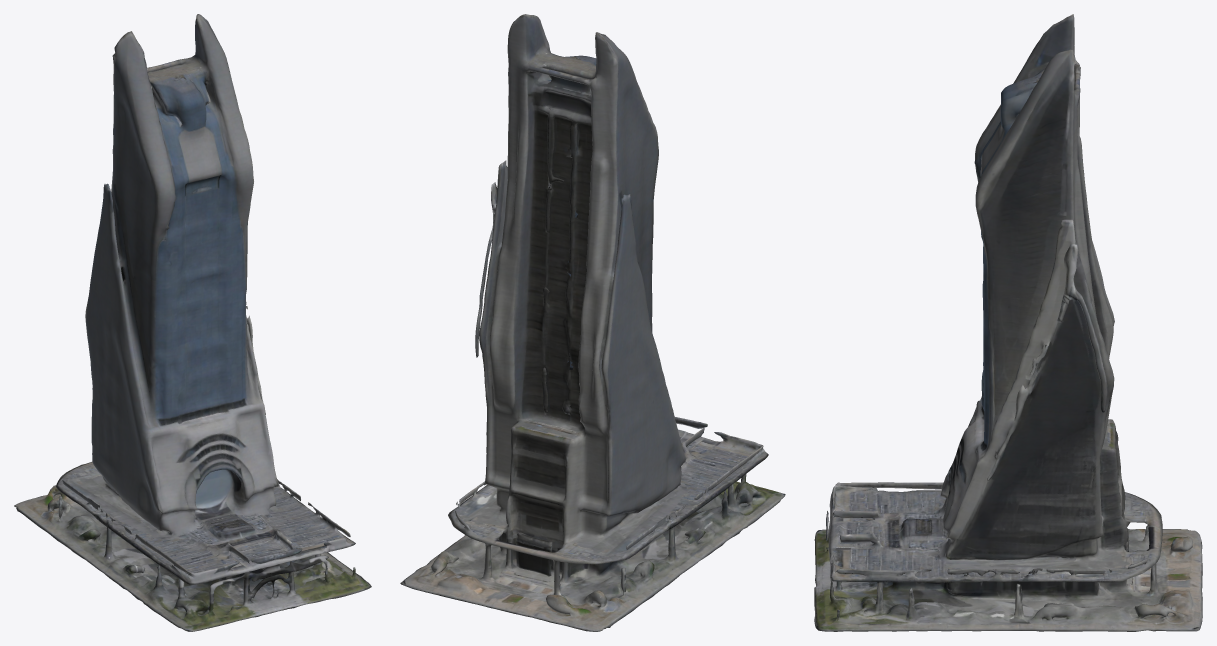
Rendered from Buildi.glb.
3 views of the same model, side by side, from view 1: azimuth 30°, elevation 25°; view 2: azimuth 150°, elevation 25°; view 3: azimuth 270°, elevation 25° (orthographic). The views are drawn at different scales.
Bounding box in the file's own units: 0.7893 × 1.99 × 1.27.
1 material, 1 textured.
